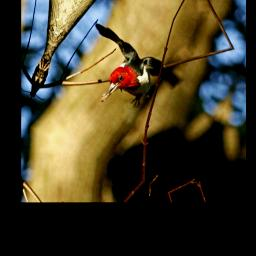Woodpecker: (65, 14, 189, 132)
